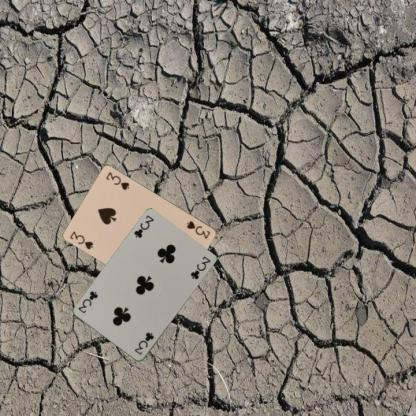3c: (131, 212, 156, 240), (132, 330, 155, 356)
3s: (67, 228, 95, 251), (184, 218, 212, 240)
